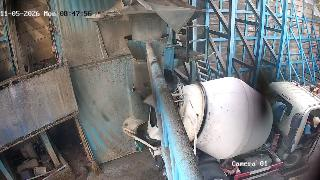cement_mixer_truck: (142, 76, 320, 180)
swing_chute: (124, 35, 169, 97)
